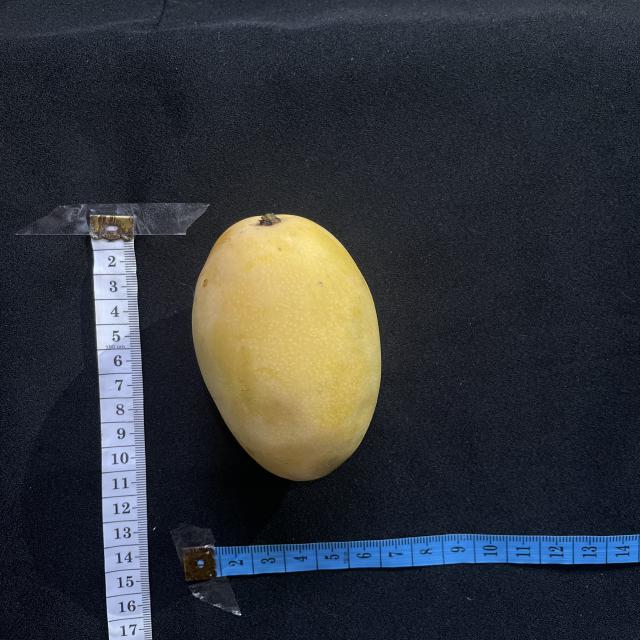Ripe: (192, 215, 381, 481)
